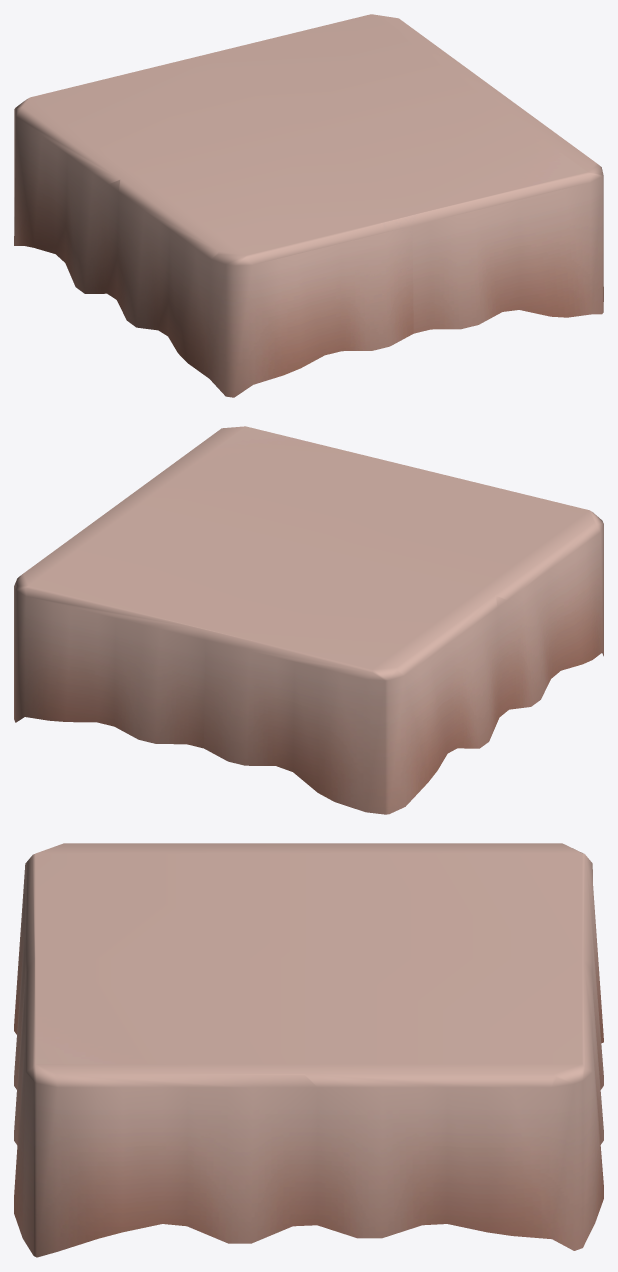
File: PoshTable.fbx
3 views of the same model, one above another, from view 1: azimuth 30°, elevation 25°; view 2: azimuth 150°, elevation 25°; view 3: azimuth 270°, elevation 25° (orthographic). The views are drawn at different scales.
Parts seen in each view (by area): view 1: pCube19; view 2: pCube19; view 3: pCube19.
Boxes of the visible parts, bbox=[...] form: pCube19: bbox=[14, 14, 603, 397]; pCube19: bbox=[14, 426, 603, 814]; pCube19: bbox=[14, 843, 603, 1257].
Size of the model in its own units: 1.68 by 0.5785 by 1.69.
1 material, 1 textured.
